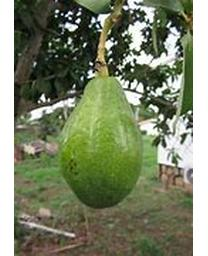avocado: (55, 75, 147, 209)
